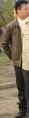boots: (0, 108, 7, 115), (0, 110, 4, 117)
